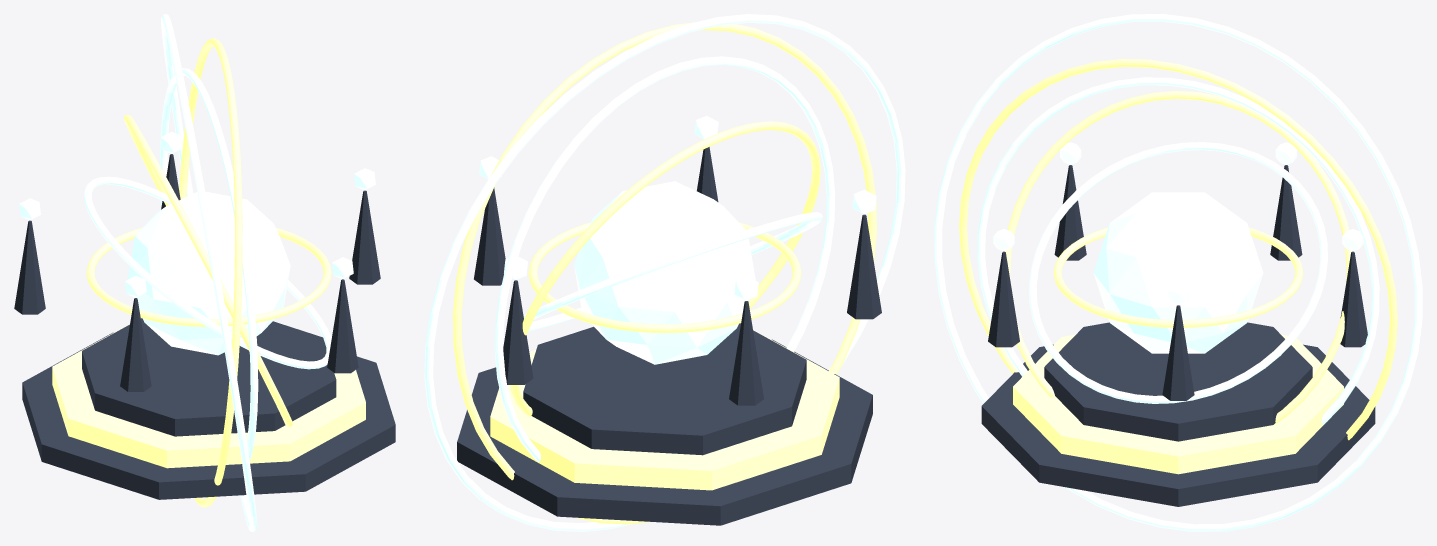
File: gpu-blender-v39.glb
3 views of the same model, side by side, from view 1: azimuth 30°, elevation 25°; view 2: azimuth 150°, elevation 25°; view 3: azimuth 270°, elevation 25° (orthographic). The views are drawn at different scales.
Parts seen in each view (by area): view 1: Cylinder.002, Cylinder, SovereignCore_city-desk, Cylinder.001, Torus.005, Torus.004, Torus.001, Torus.003, Torus, Torus.002, Cone.004, Cone.002 (+2 smaller); view 2: Cylinder.002, SovereignCore_city-desk, Cylinder, Cylinder.001, Torus.005, Torus.003, Torus.004, Torus.002, Torus, Torus.001, Cone.003, Cone.002 (+3 smaller); view 3: SovereignCore_city-desk, Cylinder.002, Cylinder, Cylinder.001, Torus.005, Torus.004, Torus.001, Torus.003, Torus.002, Torus, Cone.004, Cone (+3 smaller).
Part boxes in pixels (box(x1,y1,x2,y2)): Cylinder.002: box(82, 318, 336, 436); Cylinder: box(22, 332, 395, 499); SovereignCore_city-desk: box(127, 191, 290, 355); Cylinder.001: box(52, 325, 365, 468); Torus.005: box(161, 14, 257, 531); Torus.004: box(179, 38, 242, 507); Torus.001: box(84, 176, 331, 369); Torus.003: box(160, 68, 258, 459); Torus: box(86, 227, 331, 326); Torus.002: box(124, 114, 293, 426); Cone.004: box(327, 279, 358, 373); Cone.002: box(14, 220, 45, 314); Cylinder.002: box(523, 323, 806, 455); SovereignCore_city-desk: box(574, 181, 755, 364); Cylinder: box(457, 339, 872, 525); Cylinder.001: box(490, 330, 839, 490); Torus.005: box(424, 14, 905, 531); Torus.003: box(494, 56, 835, 461); Torus.004: box(453, 22, 876, 524); Torus.002: box(510, 121, 820, 416); Torus: box(528, 222, 801, 333); Torus.001: box(523, 212, 822, 331); Cone.003: box(847, 214, 881, 319); Cone.002: box(729, 301, 763, 405); SovereignCore_city-desk: box(1093, 192, 1263, 353); Cylinder.002: box(1044, 322, 1312, 441); Cylinder: box(981, 344, 1375, 506); Cylinder.001: box(1013, 334, 1343, 474); Torus.005: box(934, 14, 1422, 531); Torus.004: box(959, 59, 1397, 440); Torus.001: box(1029, 142, 1327, 403); Torus.003: box(977, 77, 1379, 424); Torus.002: box(1004, 91, 1352, 423); Torus: box(1053, 227, 1303, 327); Cone.004: box(988, 251, 1019, 347); Cone: box(1162, 305, 1194, 400).
Bounding box in the file's own units: 4.41 × 5.93 × 5.46.
